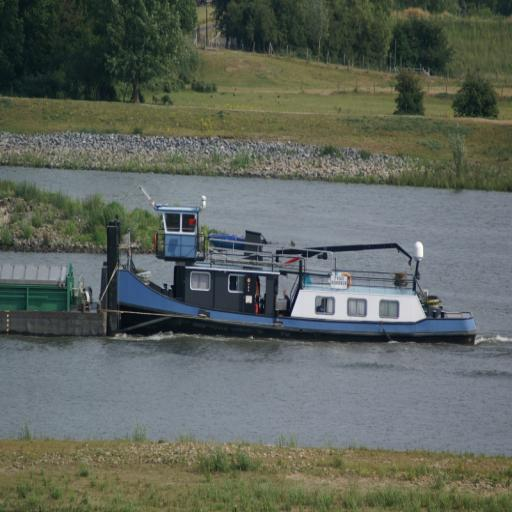tugboat: (106, 185, 488, 354)
